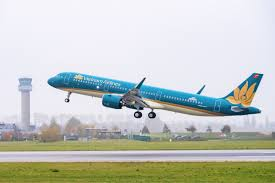maybay_dansu: (45, 56, 262, 124)
